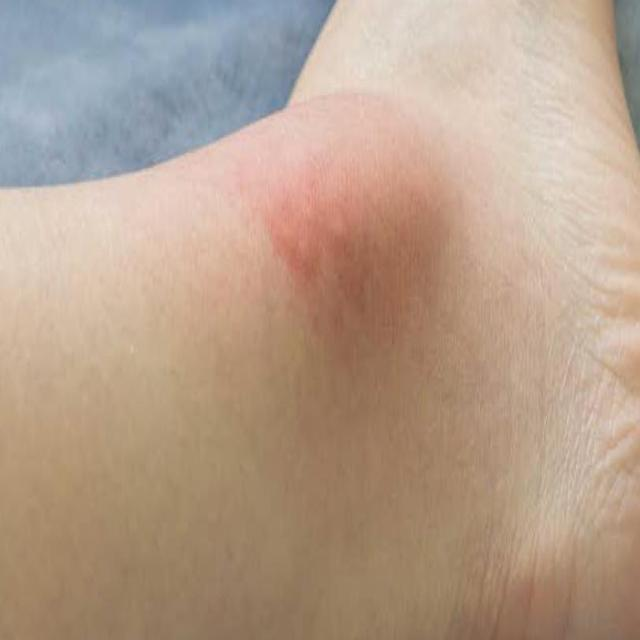sinek: (257, 167, 357, 297)
